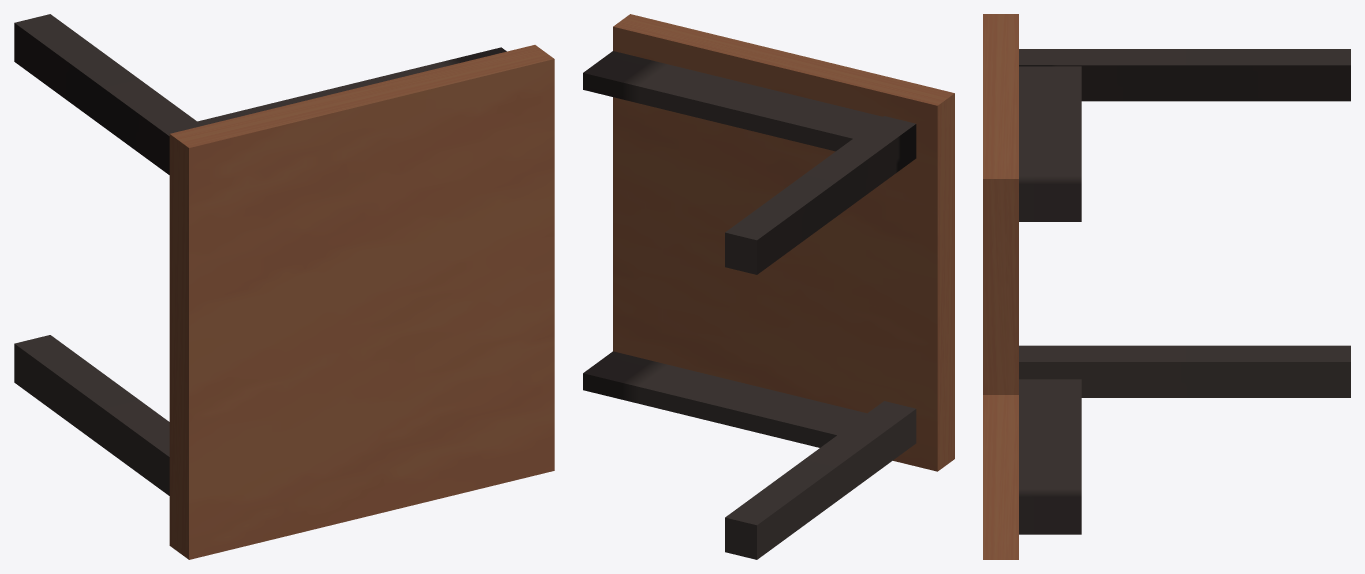
Rendered from pz_table_tables_high_02_long_oak_0_0.obj.
3 renders of one model, left to right at view 1: azimuth 30°, elevation 25°; view 2: azimuth 150°, elevation 25°; view 3: azimuth 270°, elevation 25°, orthographic. The views are drawn at different scales.
Bounding box in the file's own units: 0.8125 × 0.875 × 0.7655.
Materials: 1 (1 with a texture image).
